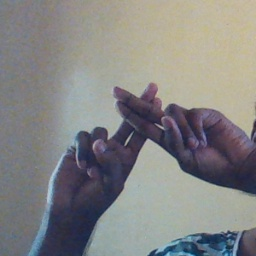F: (79, 72, 208, 171)
